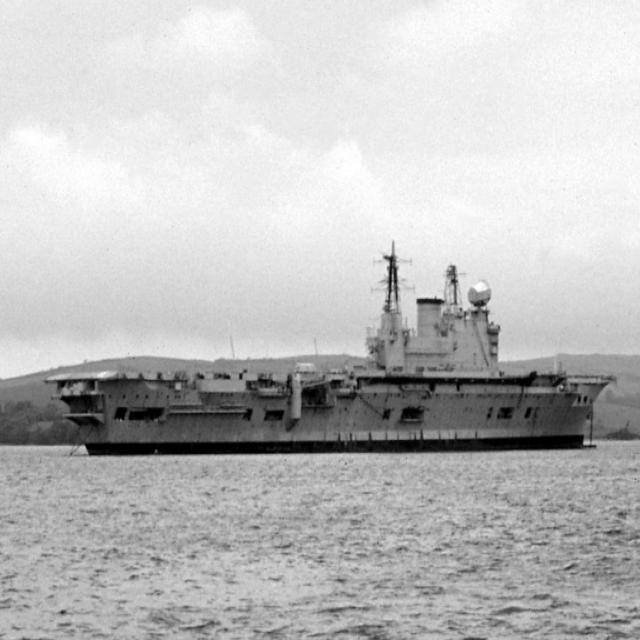Portanaves: (48, 229, 621, 462)
